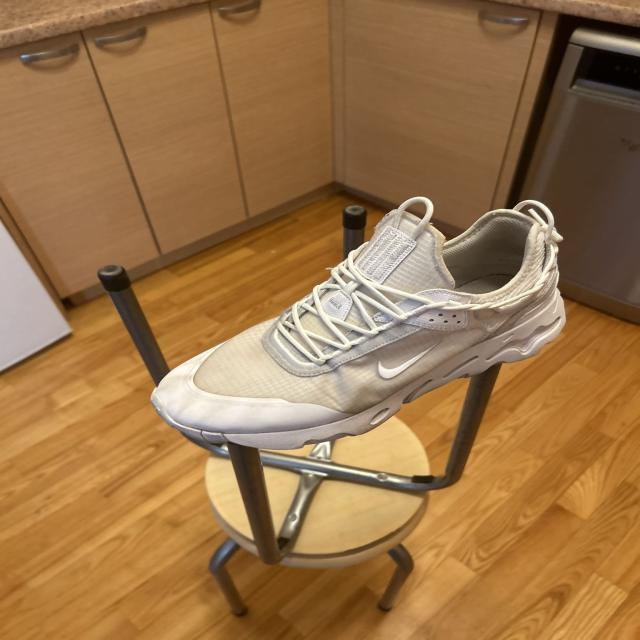shoes: (150, 200, 570, 451)
